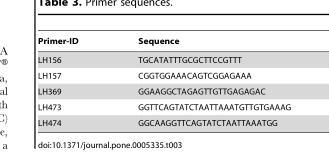table: (37, 36, 290, 127)
table column: (107, 36, 290, 127), (37, 36, 107, 127)
table column header: (37, 36, 290, 50)
table row: (37, 50, 290, 67), (37, 67, 290, 83), (37, 83, 290, 99), (37, 99, 290, 114), (37, 36, 290, 50), (37, 114, 290, 127)
